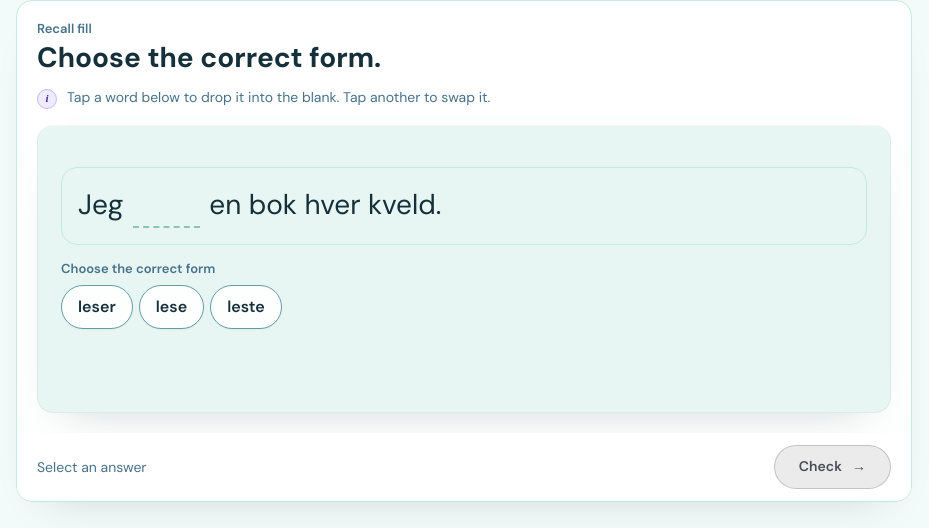
Test case: FlashCardRecallFill › fills the slot live with one tap on a form
Click the radio button labelled "leser" at (97, 307), box [61, 285, 133, 329]
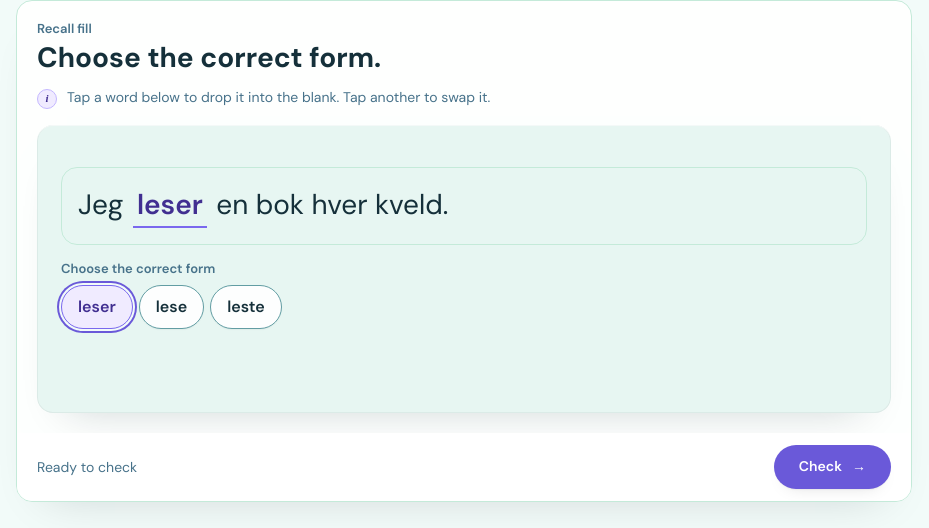
Expected: the element with test id "blank-fill" reads "leser", [137, 186, 203, 223]
Expected: the button "Check →" is enabled, [774, 445, 891, 489]
